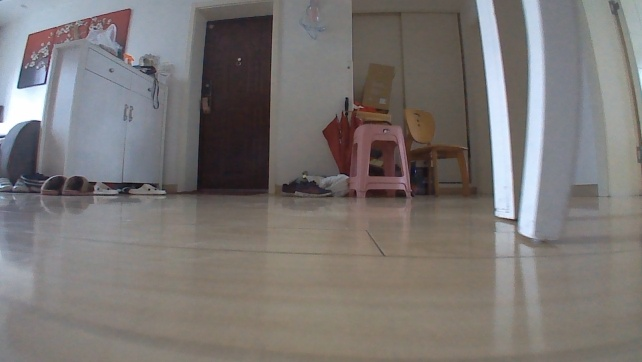blanket: (176, 189, 268, 196)
door_anno: (186, 11, 276, 200)
shoe: (292, 178, 333, 200)
slipper: (61, 171, 93, 197), (37, 173, 66, 198), (127, 180, 166, 196)
